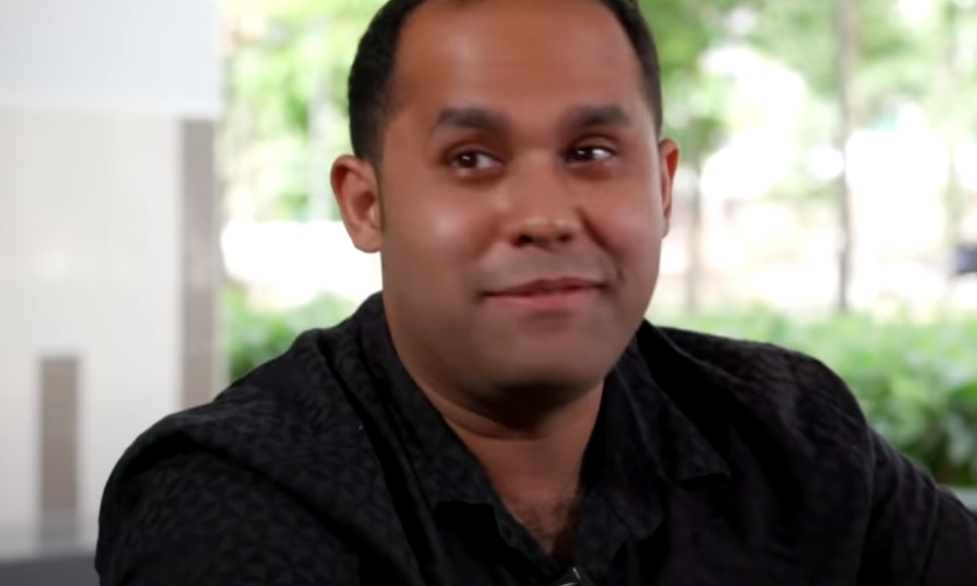mouth: (471, 274, 612, 311)
nose: (499, 211, 581, 244)
